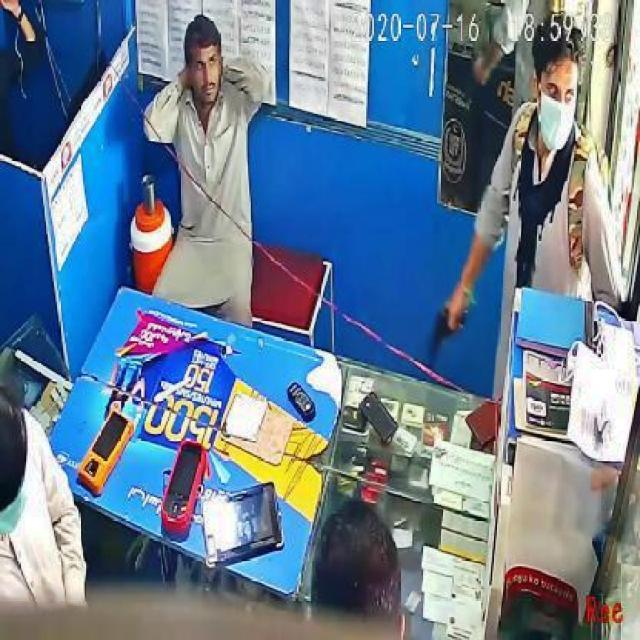Gun: (424, 290, 476, 361)
